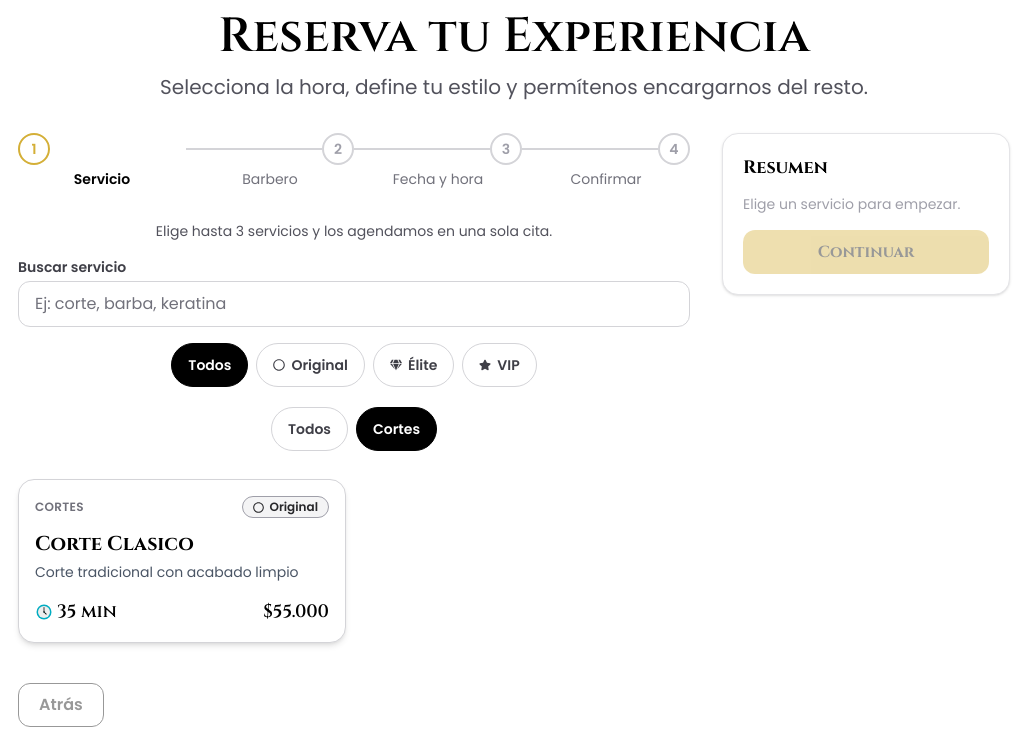
Scenario: ReservaCorte — resumen (panel lateral / barra móvil) › muestra el panel de escritorio y la barra móvil, cada uno con su propio total
The image size is (1027, 746).
Click the button "Corte Clasico" at (182, 561), box [18,479,346,643]
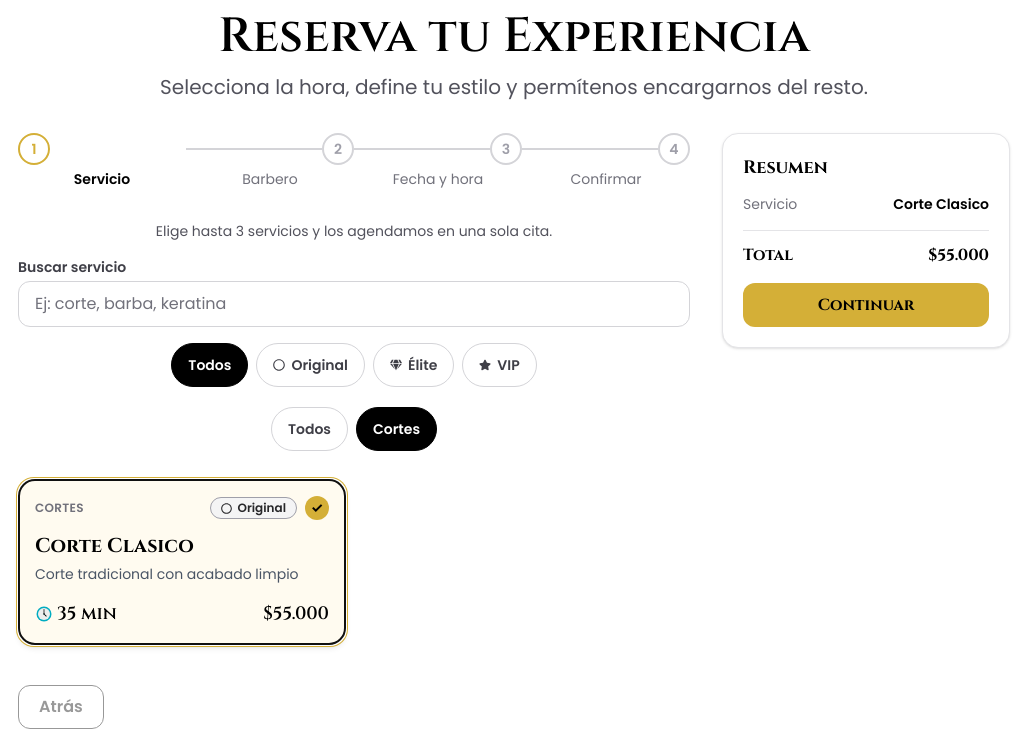
Result: the text "$55.000" next to "Total" is shown at [928,244,989,266]
